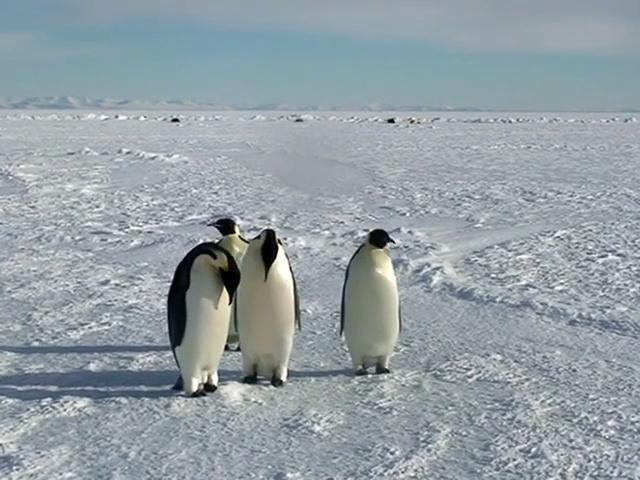animal: (341, 230, 402, 375)
